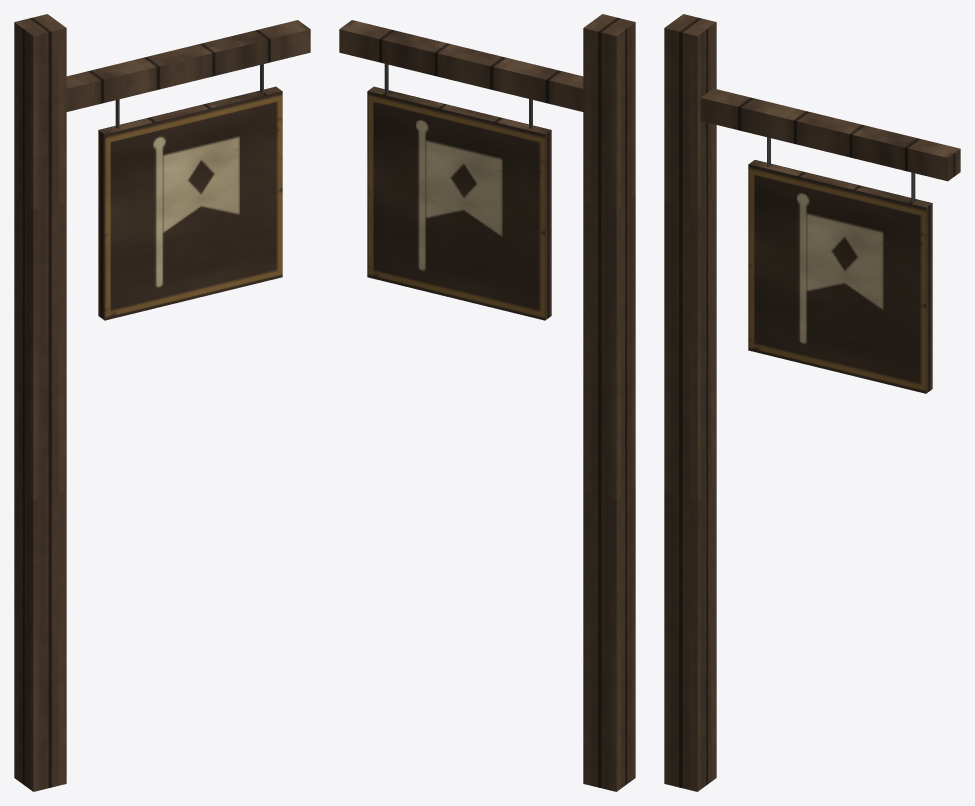
The model's file is Sign_Service_guilde_LOD2.gltf.
3 renders of one model, left to right at view 1: azimuth 30°, elevation 25°; view 2: azimuth 150°, elevation 25°; view 3: azimuth 330°, elevation 25°, orthographic.
Visible parts, largest first — view 1: Sign_Service_guilde_LOD2; view 2: Sign_Service_guilde_LOD2; view 3: Sign_Service_guilde_LOD2.
Part boxes in pixels (x1=…): Sign_Service_guilde_LOD2: x1=14, y1=14, x2=310, y2=791; Sign_Service_guilde_LOD2: x1=339, y1=14, x2=635, y2=791; Sign_Service_guilde_LOD2: x1=664, y1=14, x2=960, y2=791.
Bounding box in the file's own units: 1.01 × 2.6 × 0.12.
3 materials, 3 textured.
